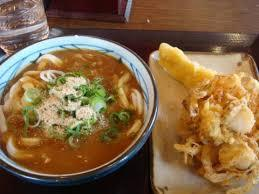curry: (1, 39, 151, 180)
kakiage: (183, 74, 259, 192)
